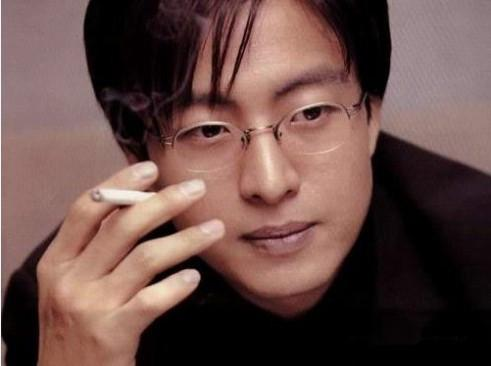smoke: (88, 187, 165, 206)
